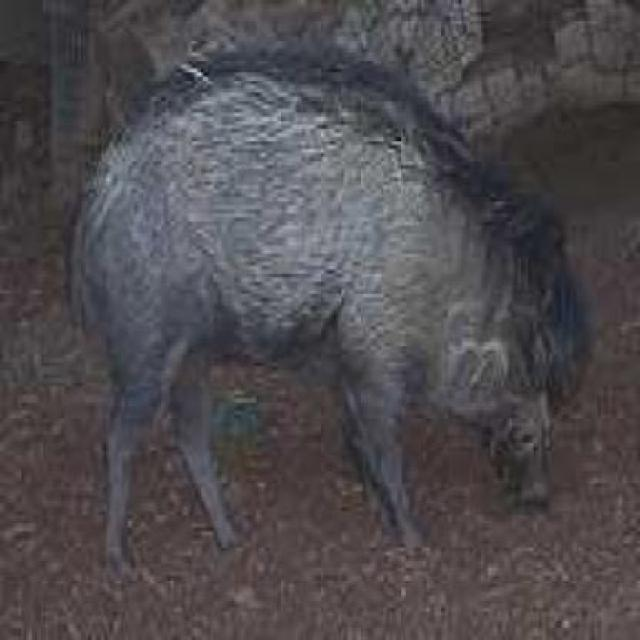pig: (77, 3, 639, 525)
